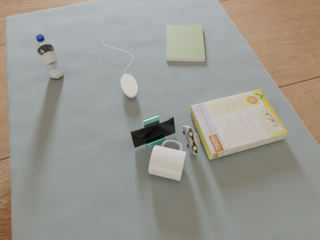book: (166, 25, 205, 61)
bottle: (36, 35, 64, 79)
box: (190, 89, 288, 159)
cup: (149, 140, 186, 181)
mouse: (121, 74, 138, 98)
phone: (131, 117, 175, 147)
toy_car: (183, 126, 200, 155)
